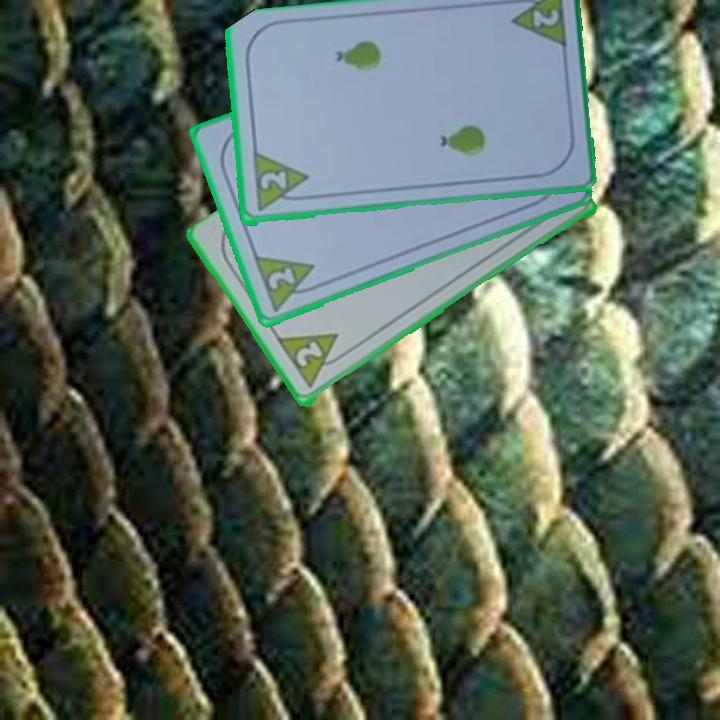2p: (248, 151, 312, 215), (291, 338, 326, 371), (264, 264, 298, 293), (528, 6, 562, 30)
